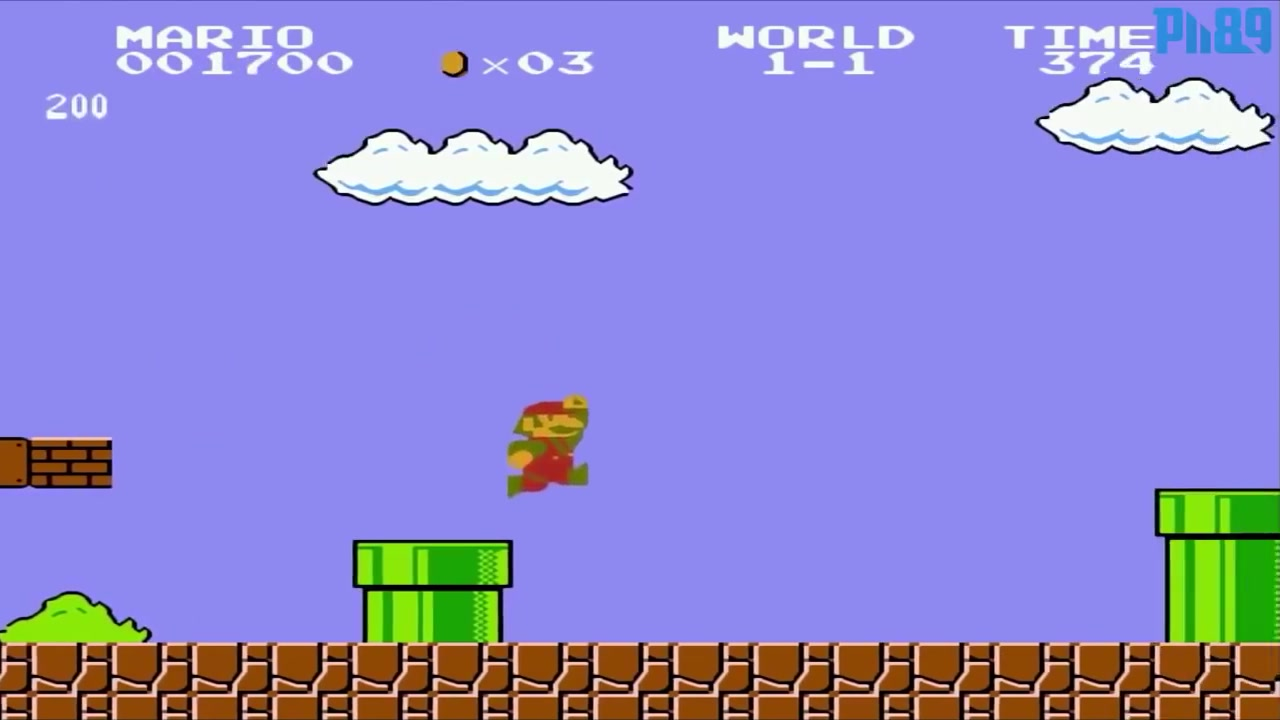mario: (485, 387, 608, 503)
